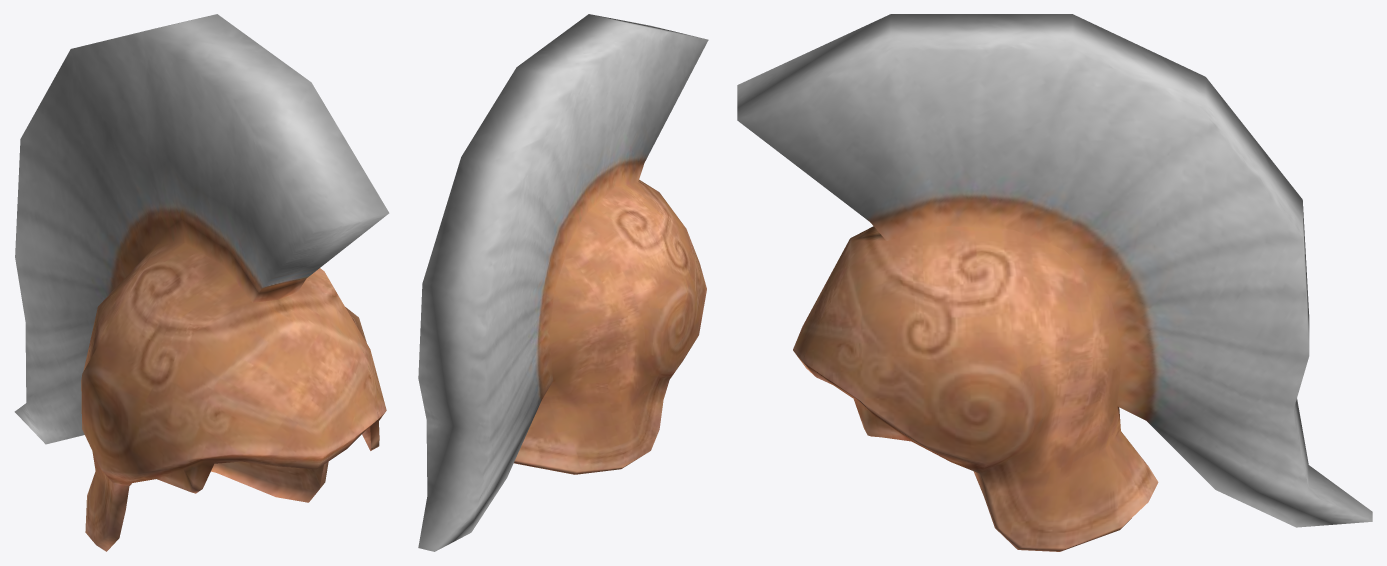
Rendered from helmet-championinfantry.glb.
The picture shows the model from 3 angles, left to right: view 1: azimuth 30°, elevation 25°; view 2: azimuth 150°, elevation 25°; view 3: azimuth 270°, elevation 25°; orthographic projection. The views are drawn at different scales.
Size of the model in its own units: 0.2687 by 0.5042 by 0.5962.
1 material, 1 textured.
